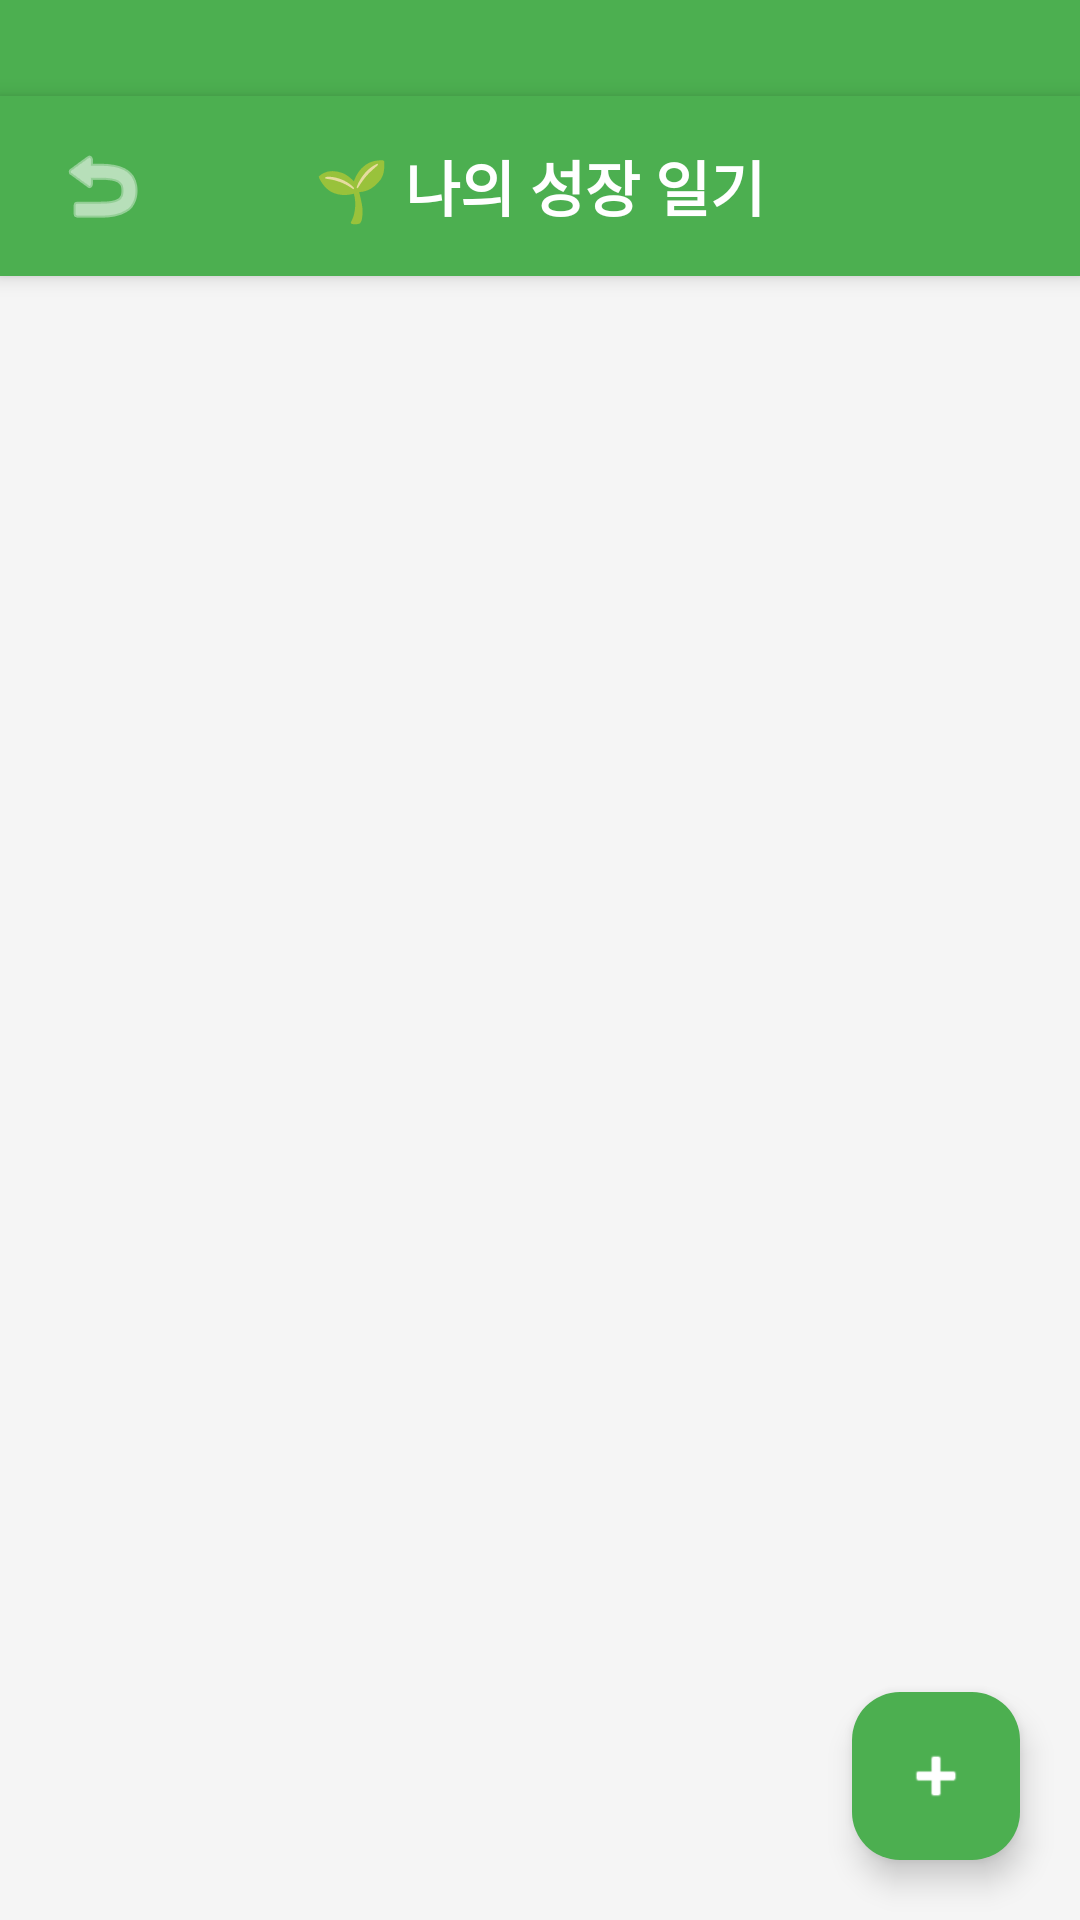

Icon click points for this 1080px×1920px phone screenshot, format (x=x, y=y):
add: (x=936, y=1776)
뒤로가기: (x=103, y=186)
